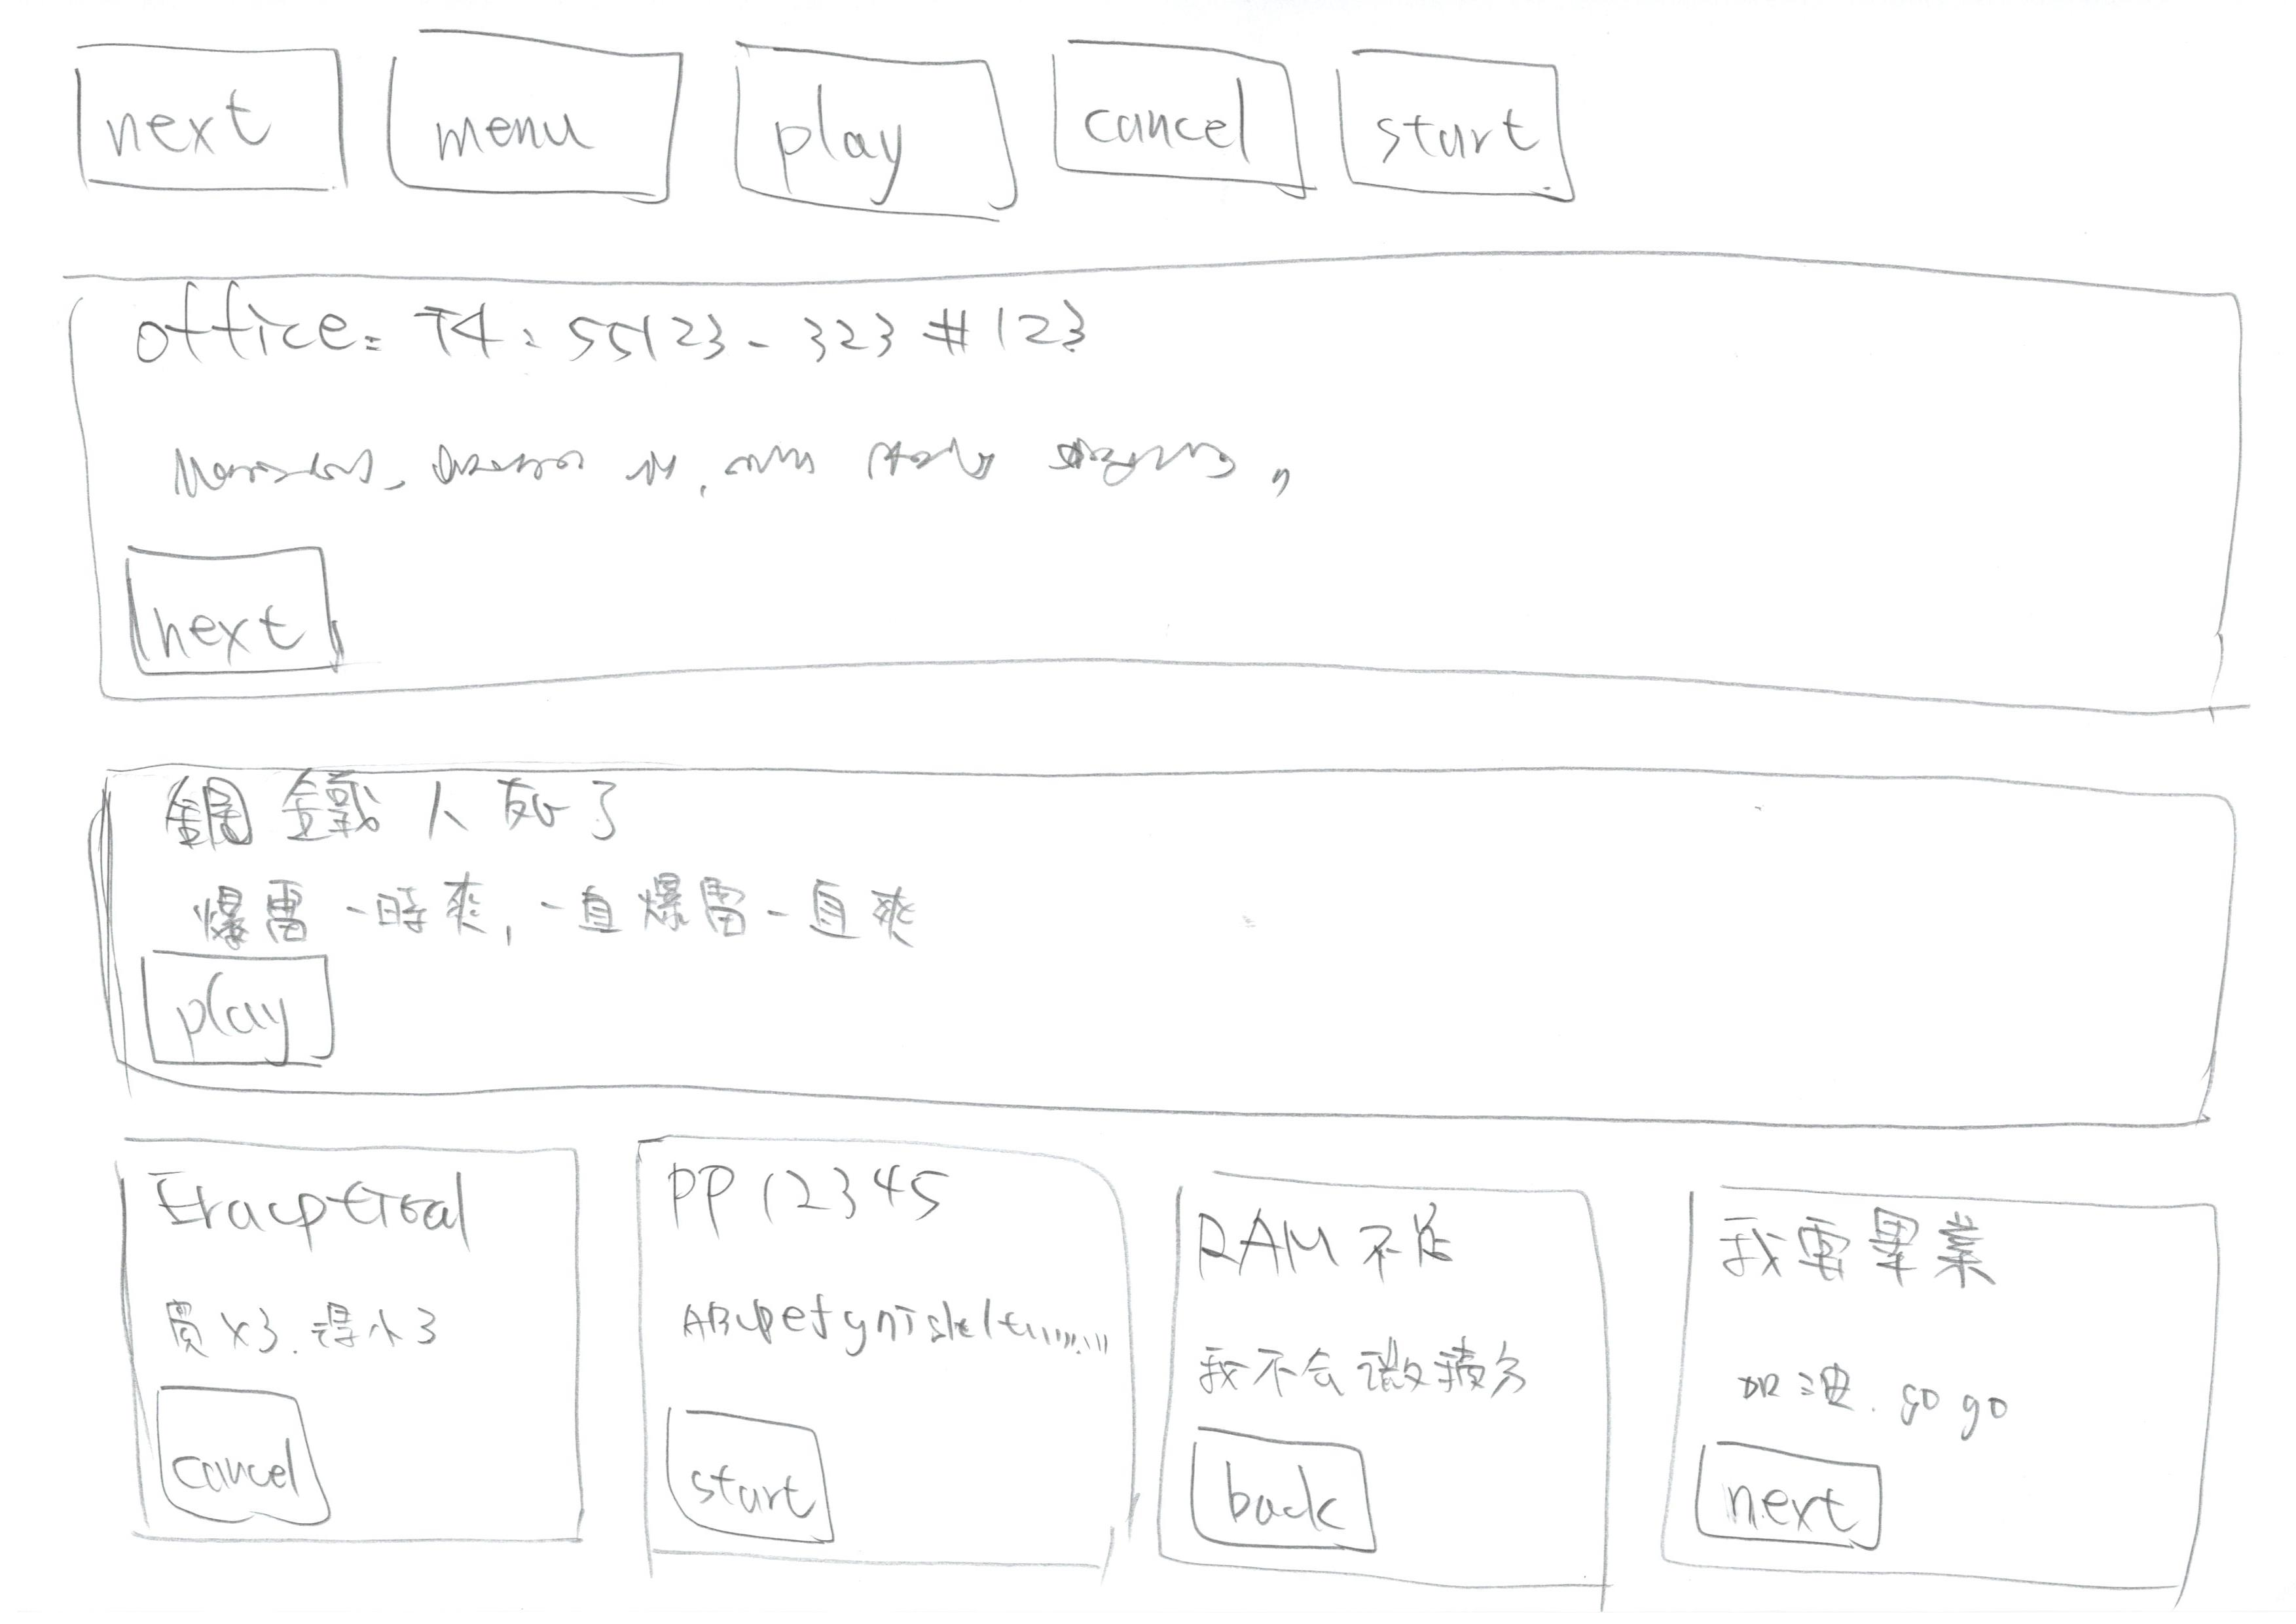back: (1171, 1403, 1450, 1584)
cancel: (1027, 7, 1311, 244), (142, 1367, 359, 1550)
menu: (376, 4, 707, 255)
next: (49, 16, 380, 225), (100, 527, 378, 705), (1675, 1415, 1920, 1580)
play: (714, 21, 1050, 250), (127, 933, 387, 1100)
quadruple: (1653, 1142, 2296, 1613), (599, 1106, 1174, 1592), (72, 1104, 619, 1598), (1150, 1125, 1646, 1624)
row: (7, 232, 2296, 726), (7, 692, 2296, 1185), (7, 1132, 2296, 1624), (7, 2, 2296, 244)
single: (35, 228, 2291, 749), (35, 708, 2296, 1162)
small-title: (148, 272, 1109, 388), (163, 763, 658, 844), (135, 1155, 487, 1260), (672, 1146, 988, 1257), (1719, 1202, 2020, 1311), (1201, 1199, 1482, 1308)
start: (1317, 25, 1607, 234), (652, 1387, 872, 1555)
text: (144, 413, 1311, 518), (156, 854, 953, 956), (670, 1258, 1099, 1369), (151, 1276, 492, 1376), (1716, 1338, 2045, 1436), (1202, 1330, 1570, 1417)
